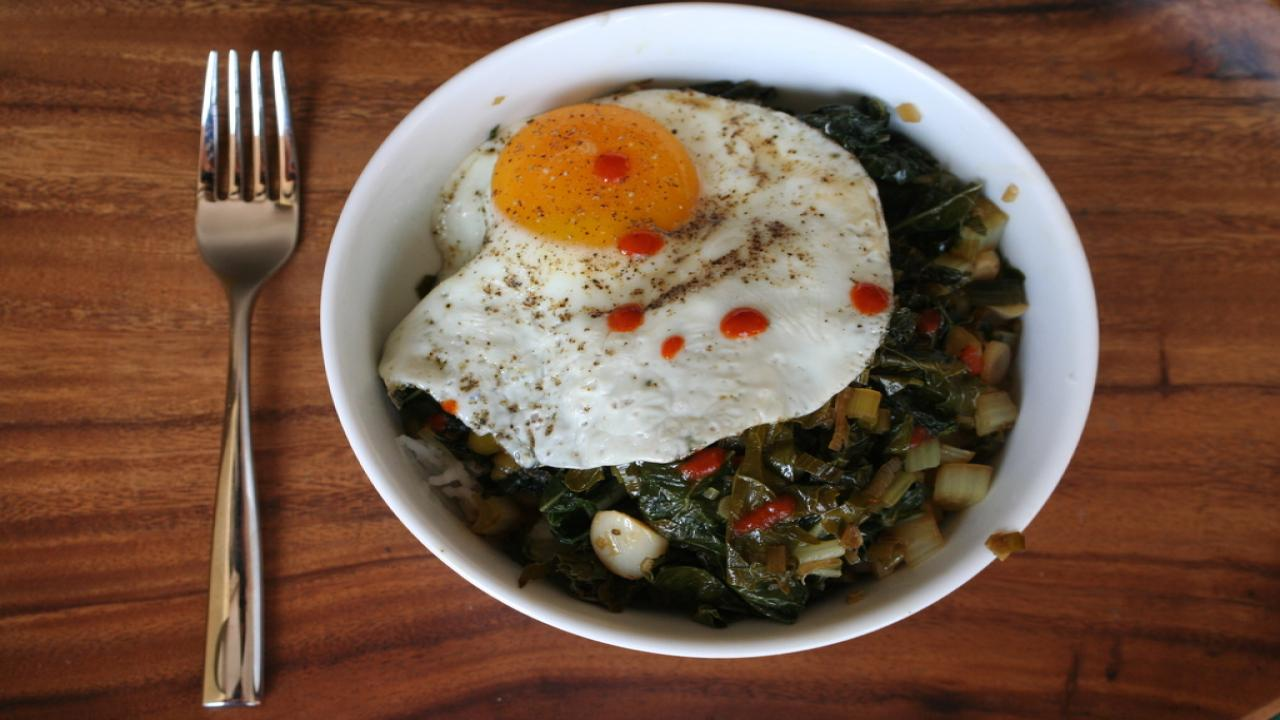fork: (189, 48, 311, 710)
